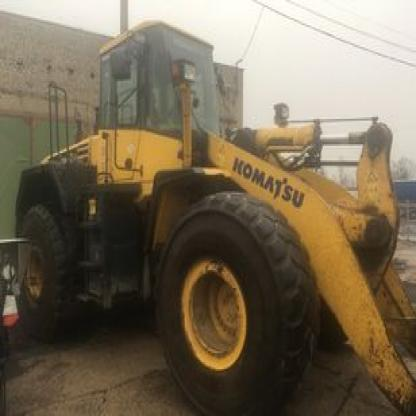bull_dozer/loader/grader: (22, 16, 397, 409)
